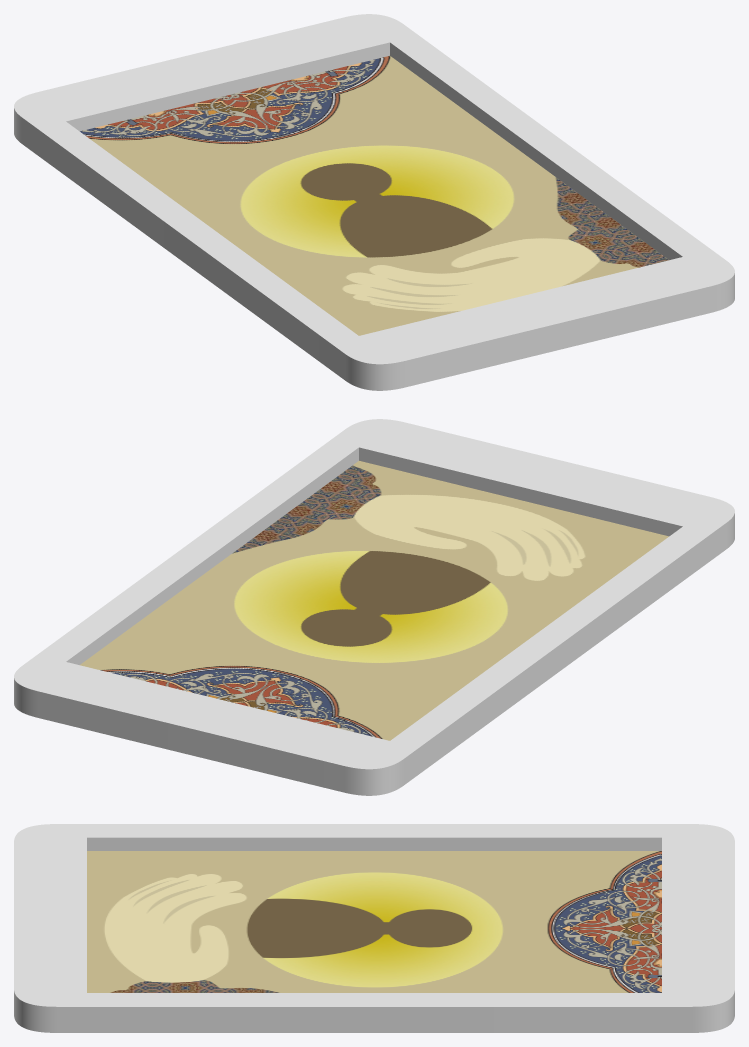
The model's file is Rohben 1.fbx.
The picture shows the model from 3 angles, top to bottom: view 1: azimuth 30°, elevation 25°; view 2: azimuth 150°, elevation 25°; view 3: azimuth 270°, elevation 25°; orthographic projection.
Parts seen in each view (by area): view 1: Card V1; view 2: Card V1; view 3: Card V1.
Boxes of the visible parts, x1,y1,x2,y2 form: Card V1: [14, 14, 734, 390]; Card V1: [14, 419, 734, 795]; Card V1: [14, 824, 734, 1032].
Bounding box in the file's own units: 4.72 × 0.315 × 7.87.
